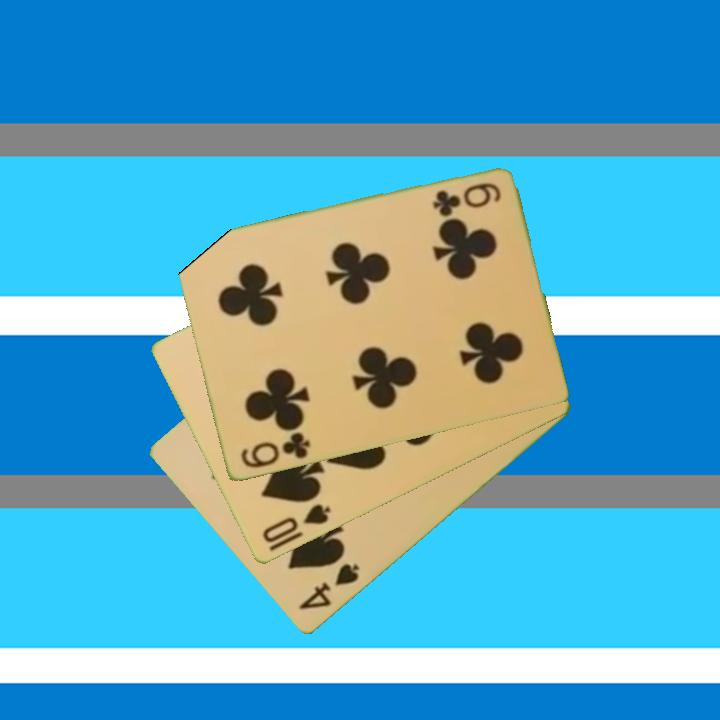10s: (258, 500, 334, 547)
4s: (295, 560, 363, 613)
6c: (237, 429, 313, 472), (428, 179, 504, 218)
